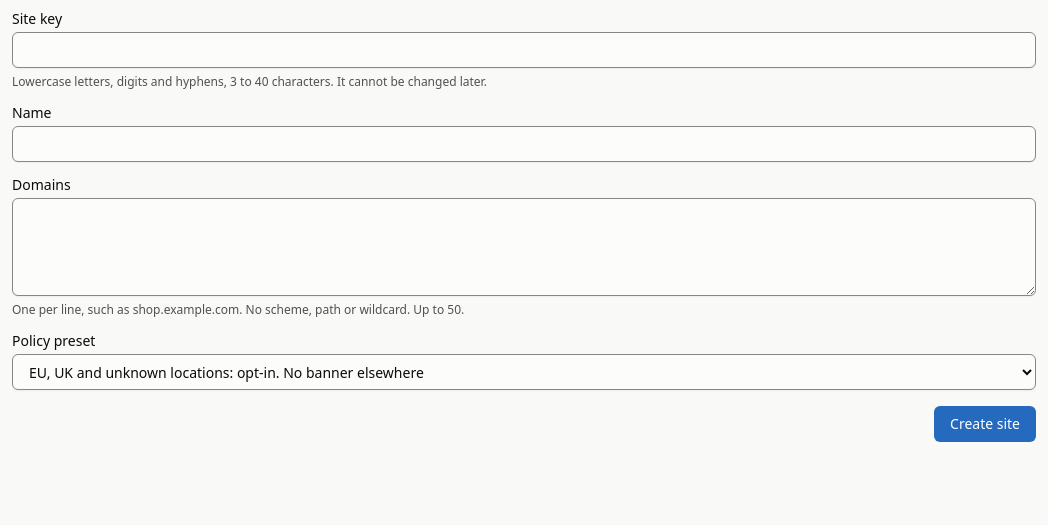
Test: nothing is submitted while a field is invalid, and each field says why
The image size is (1048, 525).
Step 1. Type "No" into the field labelled "Site key" → x=524, y=50, box [12,32,1036,68]
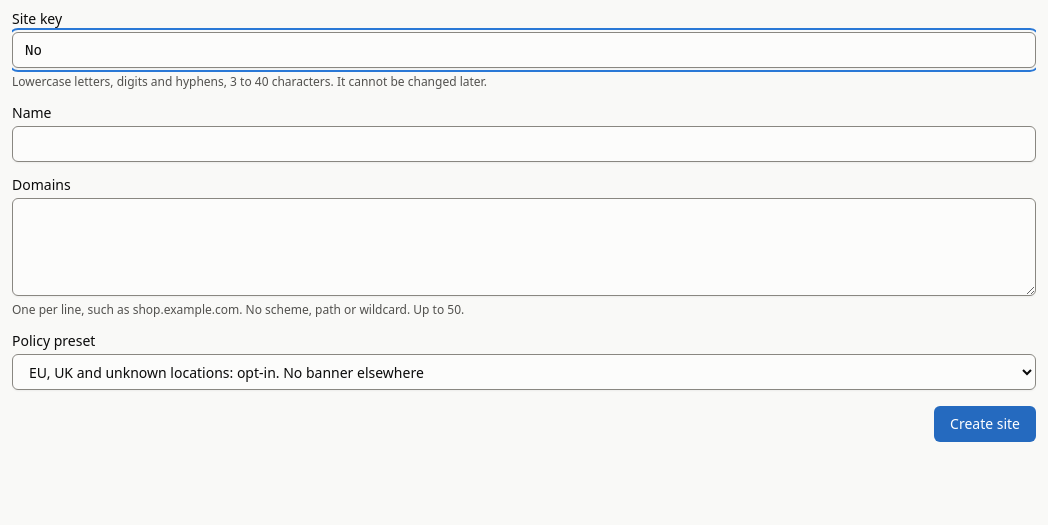
Step 2. Type "https://shop.example.com" into the text box labelled "Domains" → x=524, y=247, box [12,198,1036,296]
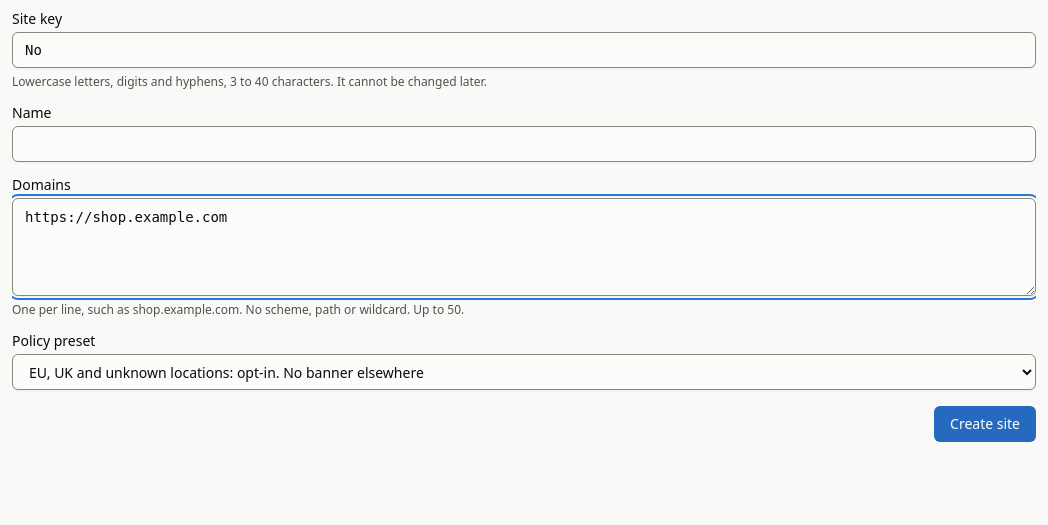
Step 3. Click the button "Create site" → x=985, y=424, box [934,406,1036,442]
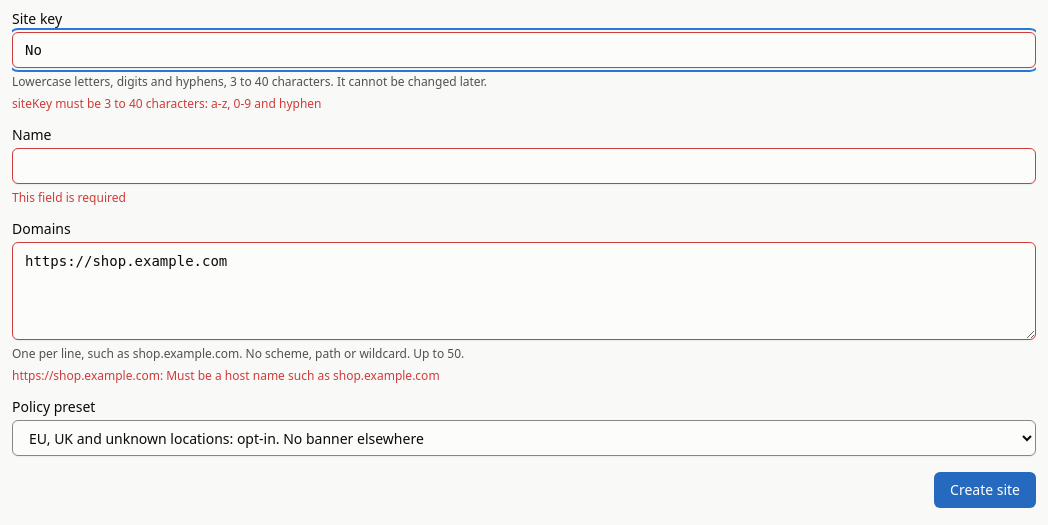
expect the text "siteKey must be 3 to 40 characters: a-z, 0-9 and hyphen" is shown: met, box [12,95,322,112]
expect the text "This field is required" is shown: met, box [12,189,126,206]
expect the text "https://shop.example.com: Must be a host name such as shop.example.com" is shown: met, box [12,367,440,384]
